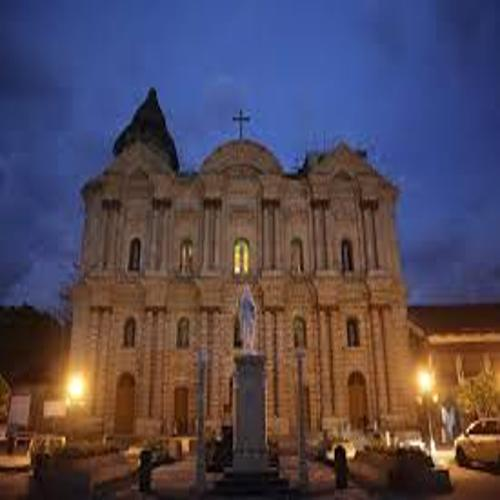Taal Basilica Church: (50, 79, 426, 465)
